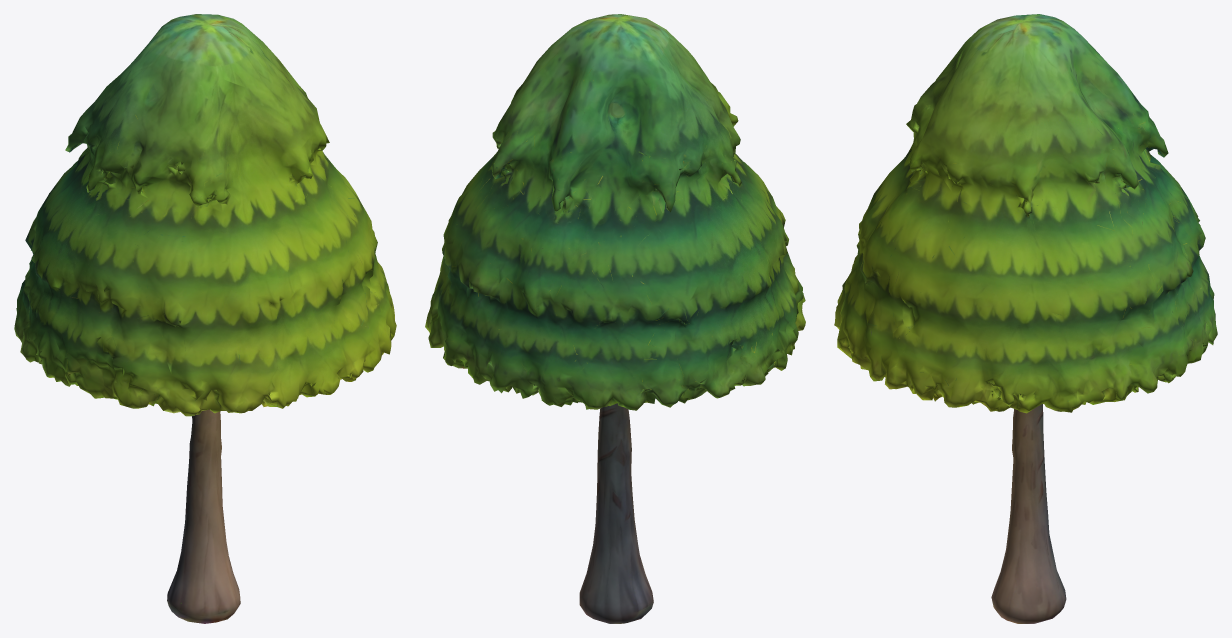
File: tree.glb
The picture shows the model from 3 angles, left to right: view 1: azimuth 30°, elevation 25°; view 2: azimuth 150°, elevation 25°; view 3: azimuth 270°, elevation 25°; orthographic projection.
Parts seen in each view (by area): view 1: Mesh_0.001; view 2: Mesh_0.001; view 3: Mesh_0.001.
Part boxes in pixels (bbox=[...]): Mesh_0.001: bbox=[14, 14, 396, 623]; Mesh_0.001: bbox=[425, 14, 805, 623]; Mesh_0.001: bbox=[834, 14, 1217, 623].
Size of the model in its own units: 0.702 by 1.2 by 0.6993.
1 material, 1 textured.
